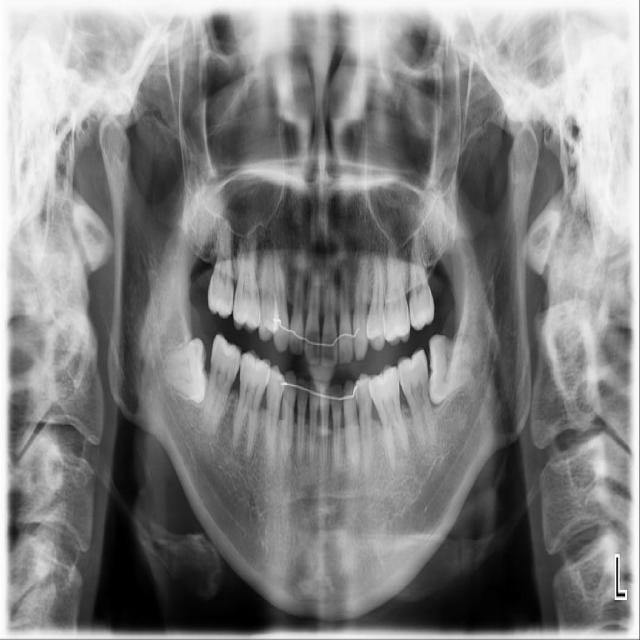impacted tooth: (428, 334, 479, 407), (155, 336, 207, 406)
